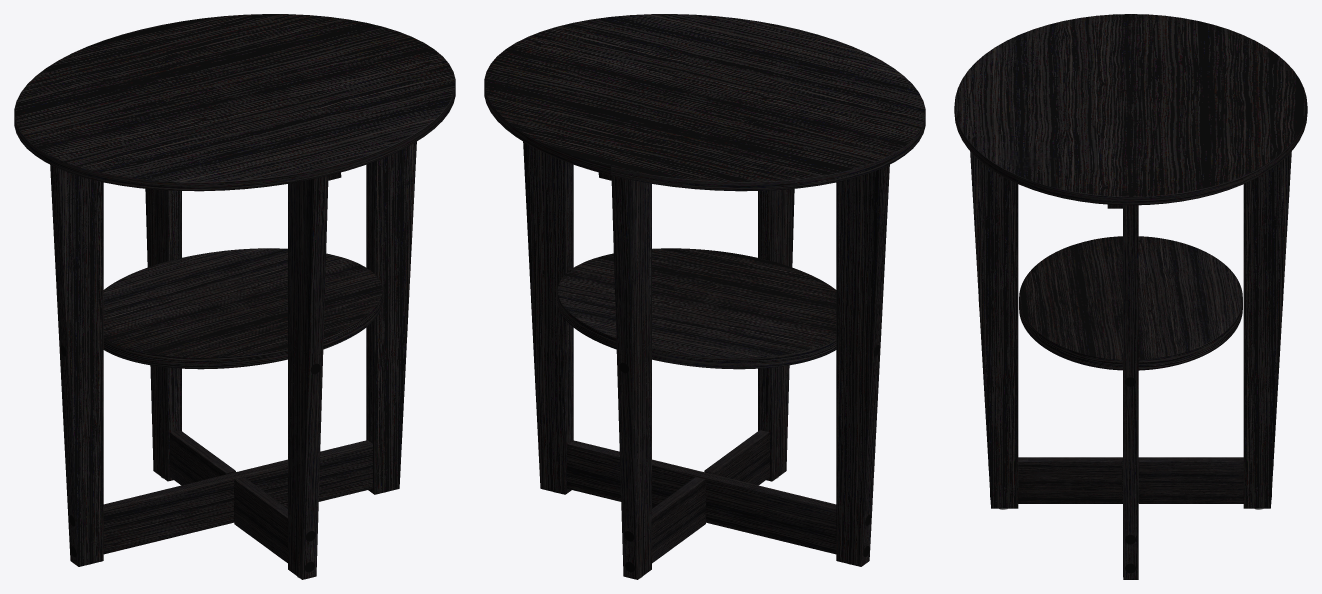
File: ZIPC8150_v6_LOD2.obj
The picture shows the model from 3 angles, left to right: view 1: azimuth 30°, elevation 25°; view 2: azimuth 150°, elevation 25°; view 3: azimuth 270°, elevation 25°; orthographic projection. The views are drawn at different scales.
Visible parts, largest first — view 1: not_clear_obj_2_v6; view 2: not_clear_obj_2_v6; view 3: not_clear_obj_2_v6.
Boxes of the visible parts, x1,y1,x2,y2 form: not_clear_obj_2_v6: (14, 14, 455, 579); not_clear_obj_2_v6: (484, 14, 925, 579); not_clear_obj_2_v6: (954, 14, 1307, 579).
Size of what is drawn, in the model's own units: 48.22 by 49.37 by 39.23.
Materials: 3 (1 with a texture image).
